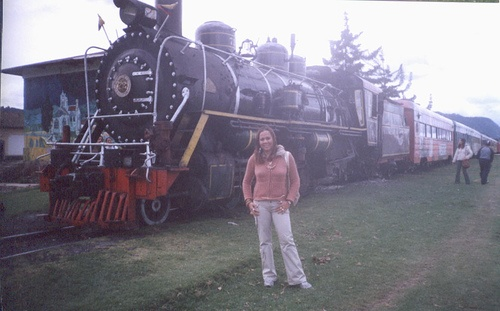head: (257, 125, 277, 156), (457, 137, 468, 152)
person: (241, 121, 312, 289), (452, 138, 471, 184), (475, 140, 492, 183)
